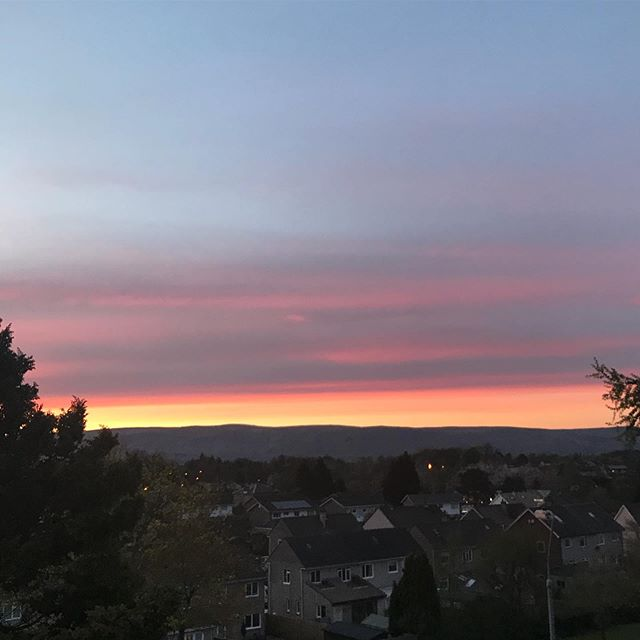building: (278, 531, 409, 640), (512, 504, 627, 599), (412, 515, 512, 606)
sky: (1, 1, 640, 397)
tree: (1, 318, 188, 640)
